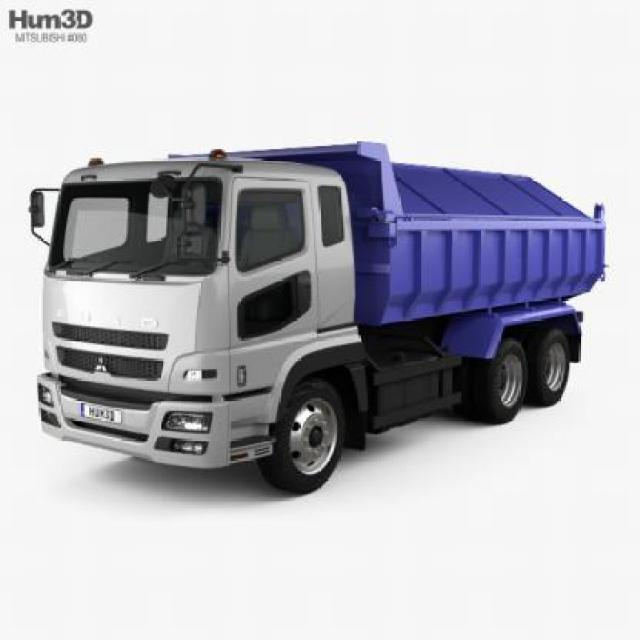truck: (32, 140, 604, 500)
